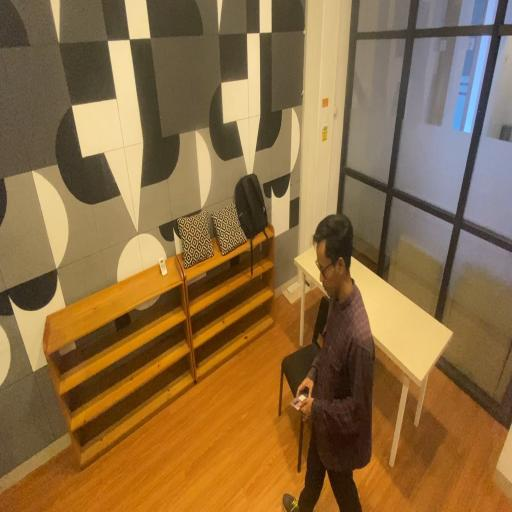bantal: (176, 207, 215, 270), (211, 201, 249, 257)
hp: (289, 392, 308, 412)
lemari: (42, 250, 196, 474)
remote AC: (159, 255, 168, 275)
tas ransel: (234, 170, 269, 238)
